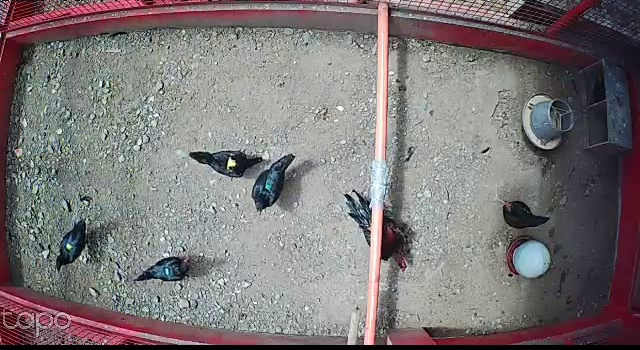Chicken: (250, 152, 297, 215), (188, 148, 266, 178), (54, 218, 92, 277), (132, 254, 192, 286), (500, 198, 551, 232)
Rooster: (340, 190, 411, 272)
Saddle_Color_Blue: (164, 266, 171, 276)
Saddle_Color_Yellow: (226, 156, 239, 171)
Saddle_Color_YellowGreen: (65, 243, 75, 255)
